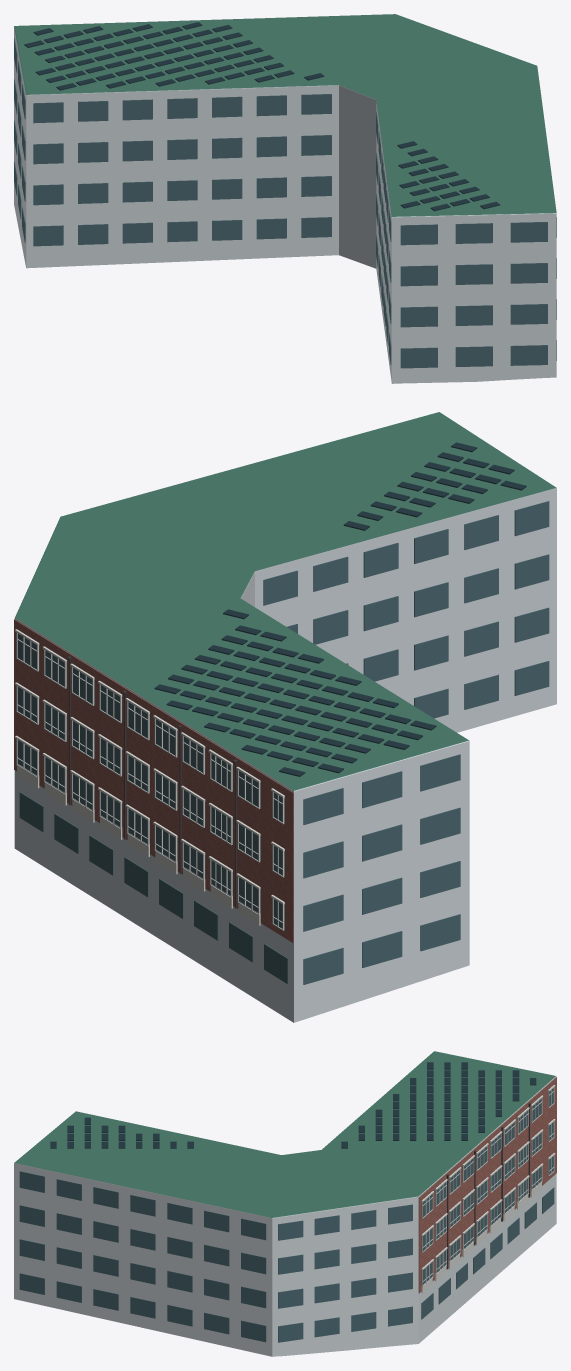
File: fragments.glb
The picture shows the model from 3 angles, top to bottom: view 1: azimuth 30°, elevation 25°; view 2: azimuth 150°, elevation 25°; view 3: azimuth 270°, elevation 25°; orthographic projection. The views are drawn at different scales.
Parts seen in each view (by area): view 1: SM_468931905_Fragment_014, SM_468931905_Fragment_044, SM_468931905_Fragment_030, SM_468931905_Fragment_003, SM_468931905_Fragment_010, SM_468931905_Fragment_046, SM_468931905_Fragment_036, SM_468931905_Fragment_048, SM_468931905_Fragment_029, SM_468931905_Fragment_004, SM_468931905_Fragment_059, SM_468931905_Fragment_017 (+28 smaller); view 2: SM_468931905_Fragment_013, SM_468931905_Fragment_000, SM_468931905_Fragment_046, SM_468931905_Fragment_020, SM_468931905_Fragment_015, SM_468931905_Fragment_005, SM_468931905_Fragment_032, SM_468931905_Fragment_022, SM_468931905_Fragment_026, SM_468931905_Fragment_010, SM_468931905_Fragment_001, SM_468931905_Fragment_011 (+25 smaller); view 3: SM_468931905_Fragment_013, SM_468931905_Fragment_031, SM_468931905_Fragment_037, SM_468931905_Fragment_007, SM_468931905_Fragment_056, SM_468931905_Fragment_055, SM_468931905_Fragment_062, SM_468931905_Fragment_029, SM_468931905_Fragment_016, SM_468931905_Fragment_051, SM_468931905_Fragment_022, SM_468931905_Fragment_012 (+26 smaller).
Part boxes in pixels (box(x1,y1,x2,y2)): SM_468931905_Fragment_014: box(78, 169, 209, 265); SM_468931905_Fragment_044: box(167, 65, 296, 176); SM_468931905_Fragment_030: box(46, 58, 155, 163); SM_468931905_Fragment_003: box(455, 192, 556, 290); SM_468931905_Fragment_010: box(386, 230, 492, 332); SM_468931905_Fragment_046: box(384, 156, 489, 249); SM_468931905_Fragment_036: box(193, 155, 297, 252); SM_468931905_Fragment_048: box(115, 46, 241, 165); SM_468931905_Fragment_029: box(455, 287, 556, 379); SM_468931905_Fragment_004: box(234, 43, 348, 155); SM_468931905_Fragment_059: box(286, 148, 357, 240); SM_468931905_Fragment_017: box(21, 148, 82, 260); SM_468931905_Fragment_013: box(14, 619, 293, 943); SM_468931905_Fragment_000: box(313, 525, 462, 692); SM_468931905_Fragment_046: box(370, 450, 556, 580); SM_468931905_Fragment_020: box(236, 841, 402, 984); SM_468931905_Fragment_015: box(236, 503, 410, 636); SM_468931905_Fragment_005: box(318, 728, 428, 876); SM_468931905_Fragment_032: box(208, 739, 343, 908); SM_468931905_Fragment_022: box(15, 622, 171, 805); SM_468931905_Fragment_026: box(341, 886, 469, 1002); SM_468931905_Fragment_010: box(462, 530, 556, 656); SM_468931905_Fragment_001: box(154, 825, 253, 975); SM_468931905_Fragment_011: box(44, 769, 130, 911); SM_468931905_Fragment_013: box(405, 1077, 556, 1293); SM_468931905_Fragment_031: box(204, 1248, 306, 1356); SM_468931905_Fragment_037: box(229, 1196, 339, 1274); SM_468931905_Fragment_007: box(326, 1180, 423, 1264); SM_468931905_Fragment_056: box(130, 1177, 229, 1268); SM_468931905_Fragment_055: box(111, 1241, 210, 1322); SM_468931905_Fragment_062: box(50, 1145, 135, 1247); SM_468931905_Fragment_029: box(14, 1227, 90, 1305); SM_468931905_Fragment_016: box(92, 1148, 177, 1249); SM_468931905_Fragment_051: box(346, 1270, 412, 1348); SM_468931905_Fragment_022: box(407, 1147, 474, 1269); SM_468931905_Fragment_012: box(138, 1276, 242, 1350).
Size of the model in its own units: 1.6 by 0.6653 by 2.2.
Materials: 12 (1 with a texture image).
